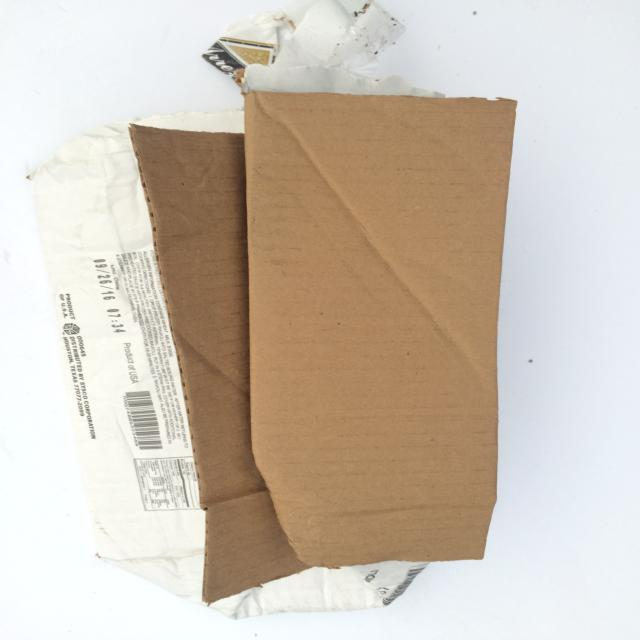cardboard: (33, 27, 525, 617)
